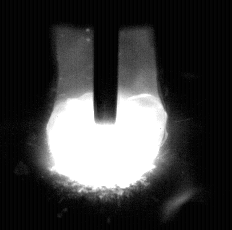arame: (95, 0, 117, 122)
poca: (46, 0, 166, 230)
